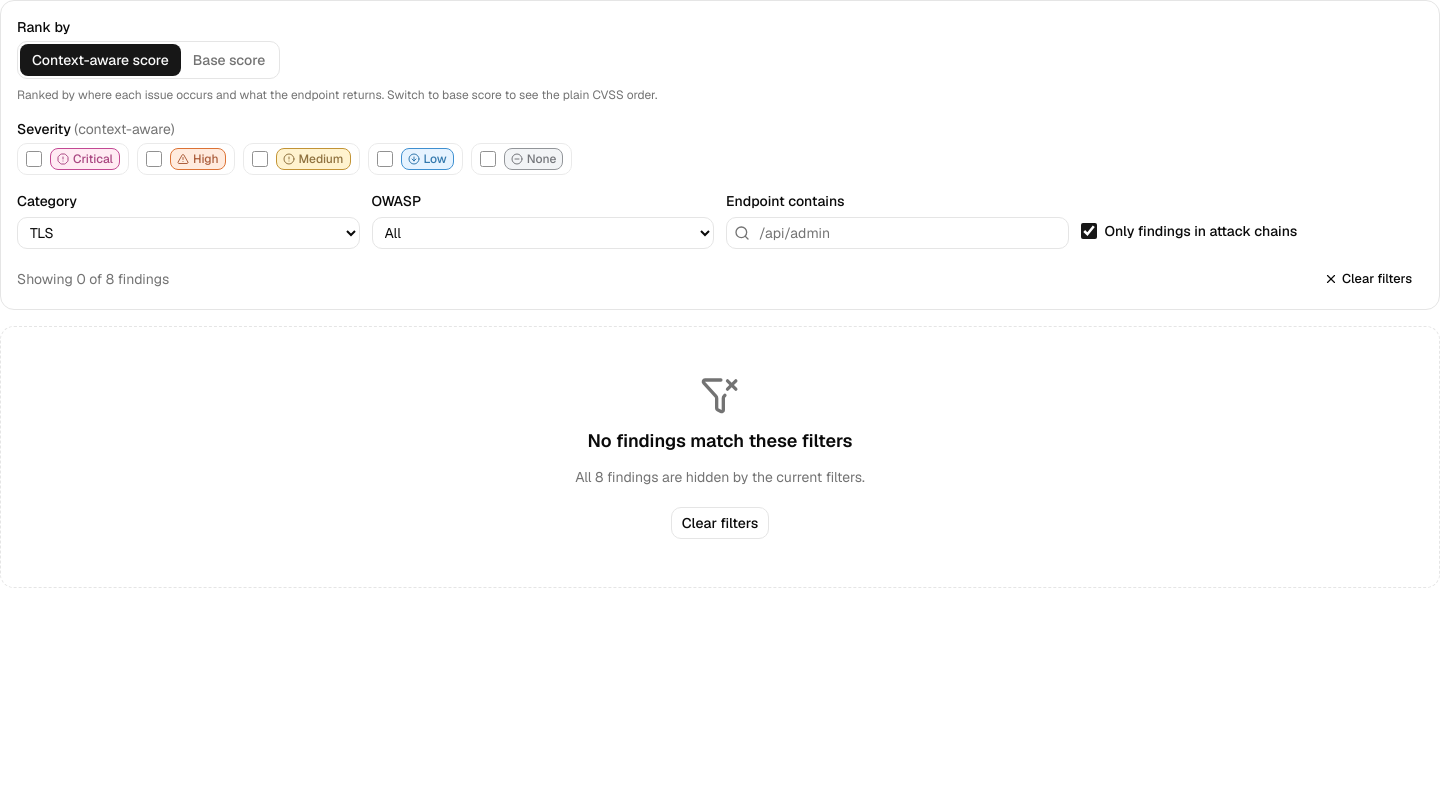
FindingsPanel: filters › shows an empty state when nothing matches, and clears
The width and height of the screenshot is (1440, 810).
Check: the heading "No findings match these filters" is shown, box [588,427,852,455]
Step 1. Click the button "Clear filters" below "No findings match these filters" → (720, 523), box [671,507,769,539]
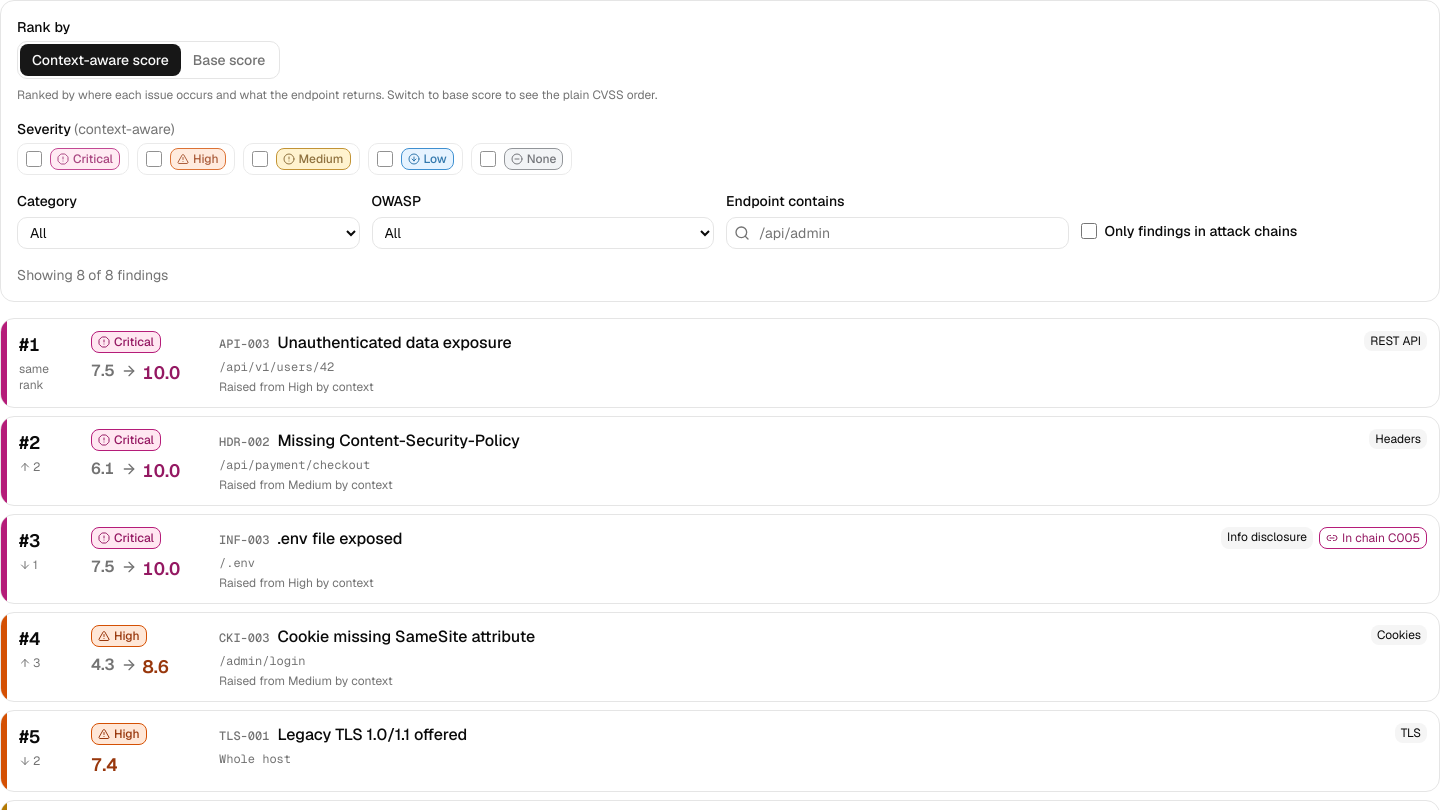
Check: the dropdown labelled "Category" shows "All", box [17,217,360,249]
